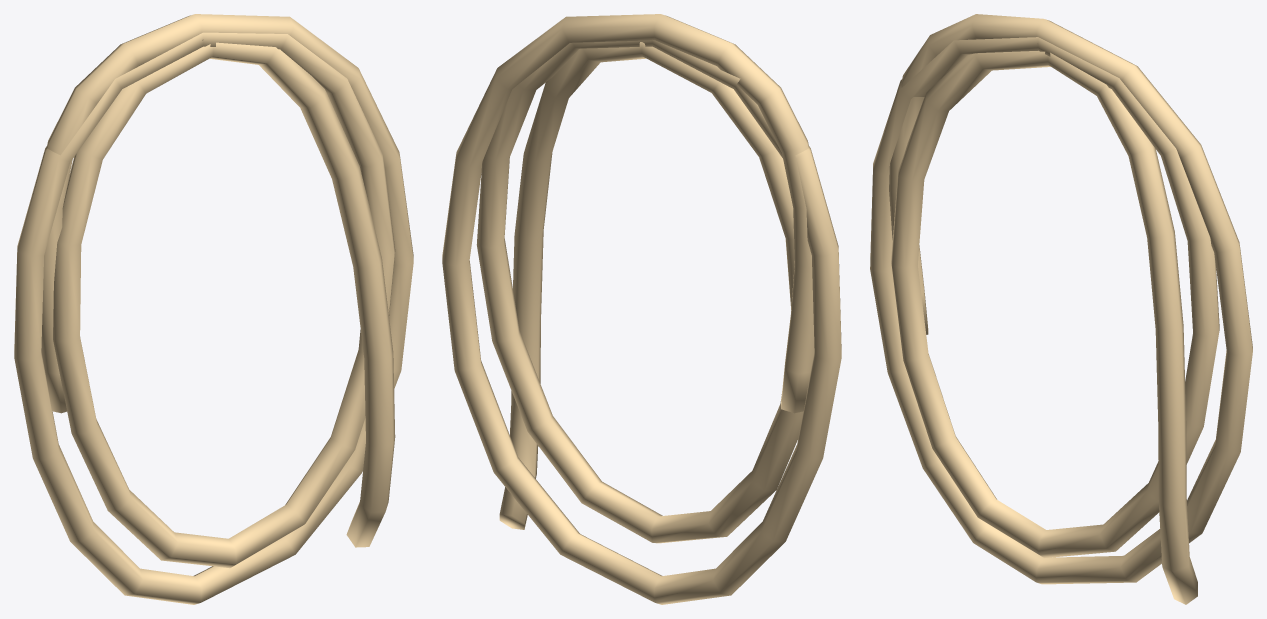
The model's file is swamp_ropes.fbx.
3 views of the same model, side by side, from view 1: azimuth 30°, elevation 25°; view 2: azimuth 150°, elevation 25°; view 3: azimuth 330°, elevation 25° (orthographic). The views are drawn at different scales.
Parts seen in each view (by area): view 1: Rope_coil; view 2: Rope_coil; view 3: Rope_coil.
Boxes of the visible parts, left/top/right/bottom form: Rope_coil: left=14, top=14, right=413, bottom=604; Rope_coil: left=442, top=14, right=841, bottom=604; Rope_coil: left=870, top=14, right=1252, bottom=604.
Size of the model in its own units: 0.4435 by 0.6268 by 0.0756.
